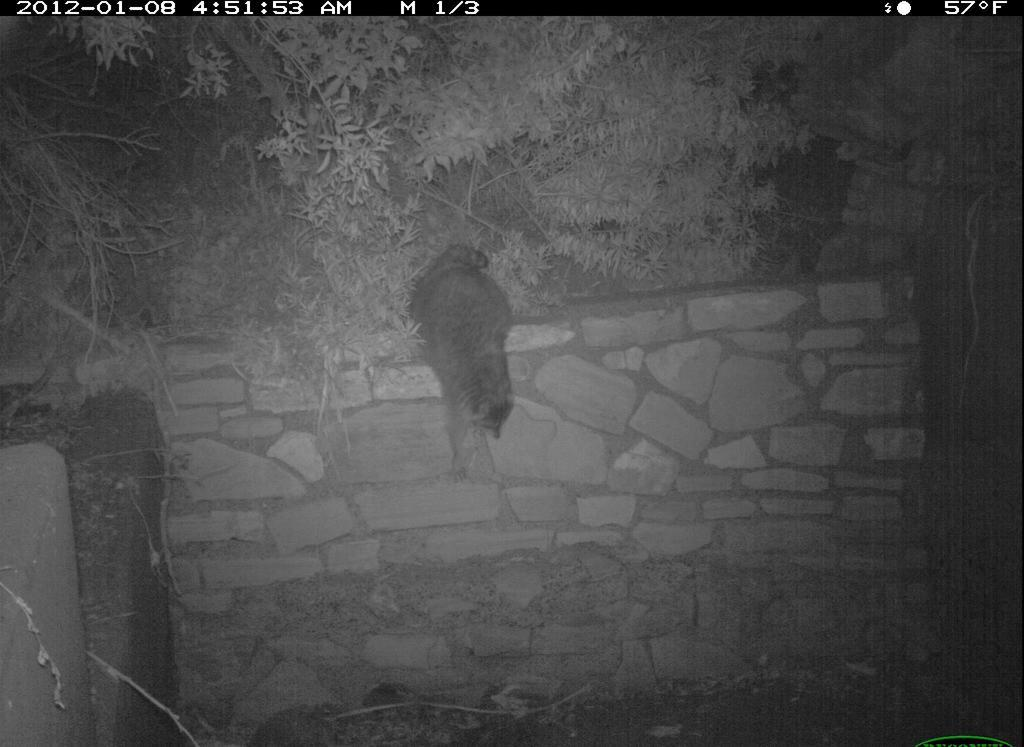raccoon: (401, 232, 548, 466)
